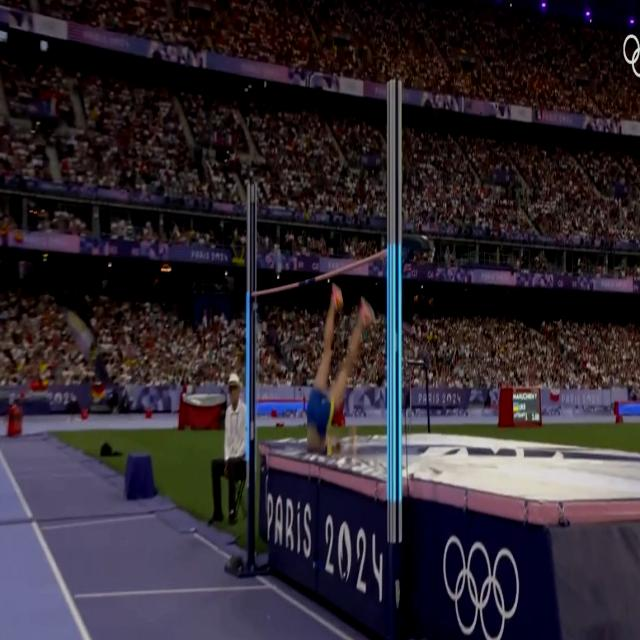land: (306, 282, 375, 457)
